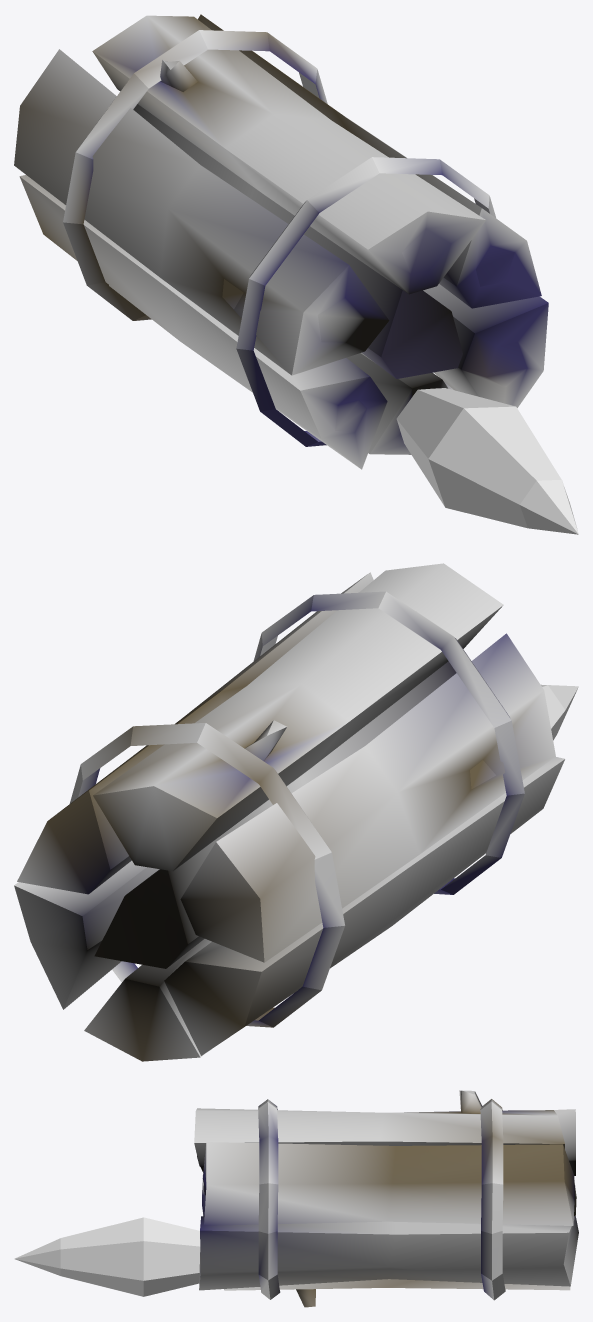
Rendered from ChainGun.fbx.
The picture shows the model from 3 angles, top to bottom: view 1: azimuth 30°, elevation 25°; view 2: azimuth 150°, elevation 25°; view 3: azimuth 270°, elevation 25°; orthographic projection. The views are drawn at different scales.
Visible parts, largest first — view 1: ChainGun, ChainGun_Muzzle; view 2: ChainGun, ChainGun_Muzzle; view 3: ChainGun, ChainGun_Muzzle.
Boxes of the visible parts, x1,y1,x2,y2 form: ChainGun: (14,14,548,469); ChainGun_Muzzle: (396,388,578,534); ChainGun: (14,563,564,1061); ChainGun_Muzzle: (541,684,578,740); ChainGun: (194,1090,578,1307); ChainGun_Muzzle: (14,1217,200,1296).
Size of the model in its own units: 52.96 by 54.42 by 147.
